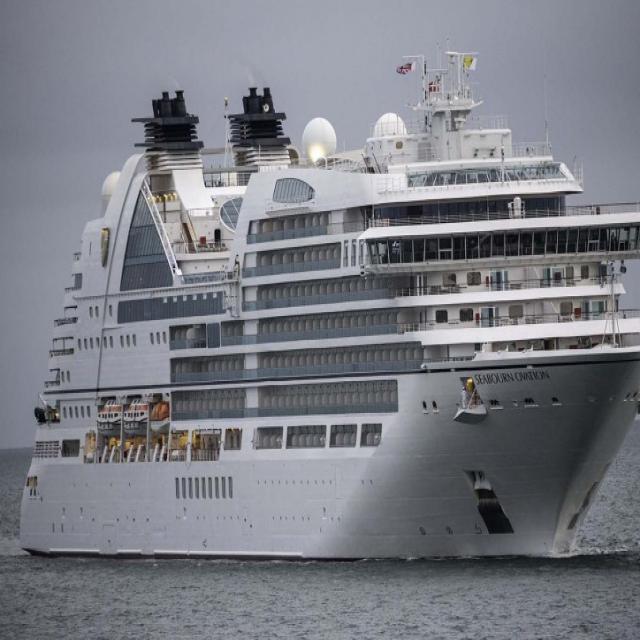cruises: (17, 50, 640, 580)
